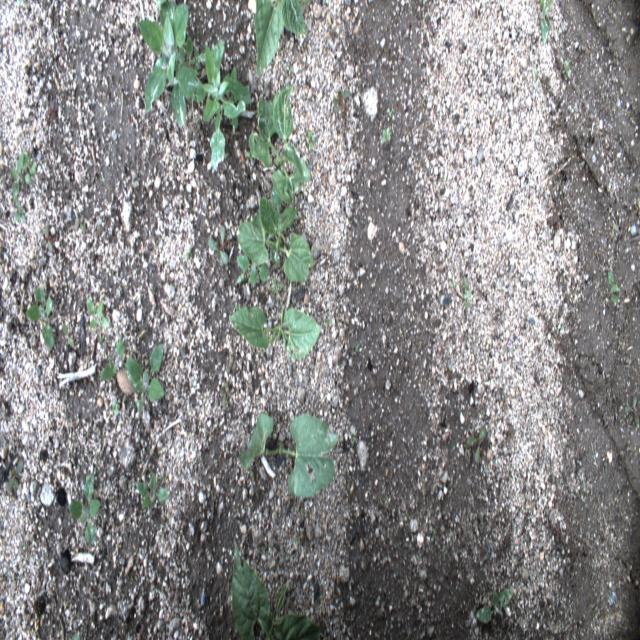crop: (228, 539, 322, 639), (240, 412, 339, 506), (248, 86, 313, 206), (238, 195, 315, 283), (228, 301, 322, 364), (255, 0, 310, 75)
weed: (139, 2, 207, 124), (198, 42, 250, 169), (67, 471, 101, 549), (126, 344, 166, 402), (134, 469, 171, 522), (25, 288, 54, 348), (475, 581, 514, 625), (9, 154, 35, 202), (206, 222, 232, 264), (237, 249, 268, 283), (101, 339, 125, 382), (86, 299, 110, 331), (329, 88, 355, 115), (7, 458, 26, 493), (468, 428, 486, 463), (540, 0, 553, 47), (607, 268, 622, 307), (39, 226, 54, 251), (462, 277, 472, 312), (305, 128, 317, 152), (61, 322, 73, 346), (14, 204, 27, 224), (272, 276, 284, 296), (75, 213, 87, 233), (381, 125, 392, 146), (221, 379, 229, 406), (563, 57, 570, 80), (111, 400, 121, 416), (448, 280, 457, 293), (98, 332, 105, 348), (352, 344, 360, 358), (283, 64, 293, 74), (386, 106, 393, 120), (184, 248, 191, 262), (327, 314, 333, 326)
